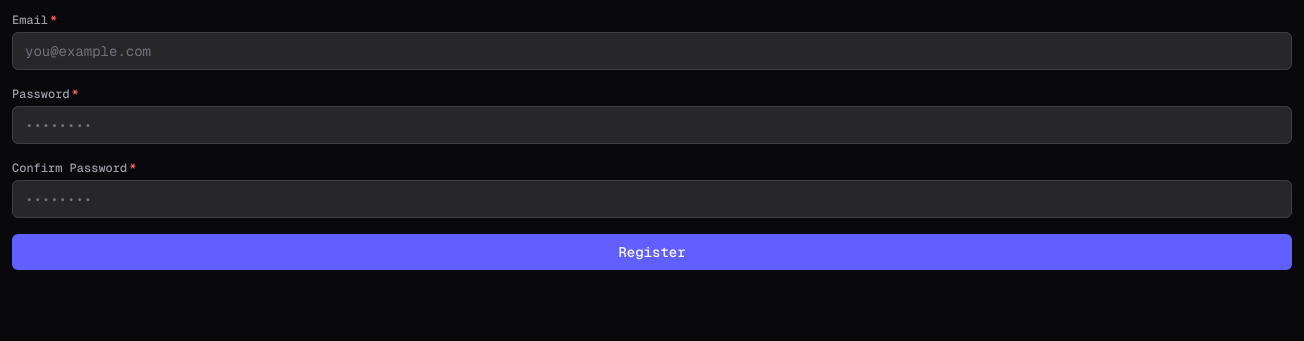
it: RegisterForm › shows error when email is already registered
Step 1. Type "existing@test.com" into the field labelled "Email*" → point(652, 51), box x1=12 y1=32 x2=1292 y2=70
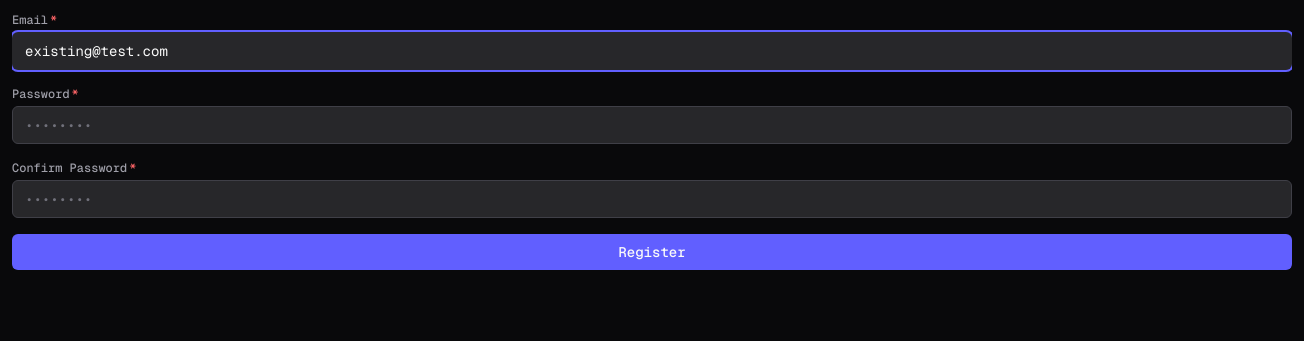
Step 2. Type "Password1!" into the password field labelled "Password*" → point(652, 125), box x1=12 y1=106 x2=1292 y2=144
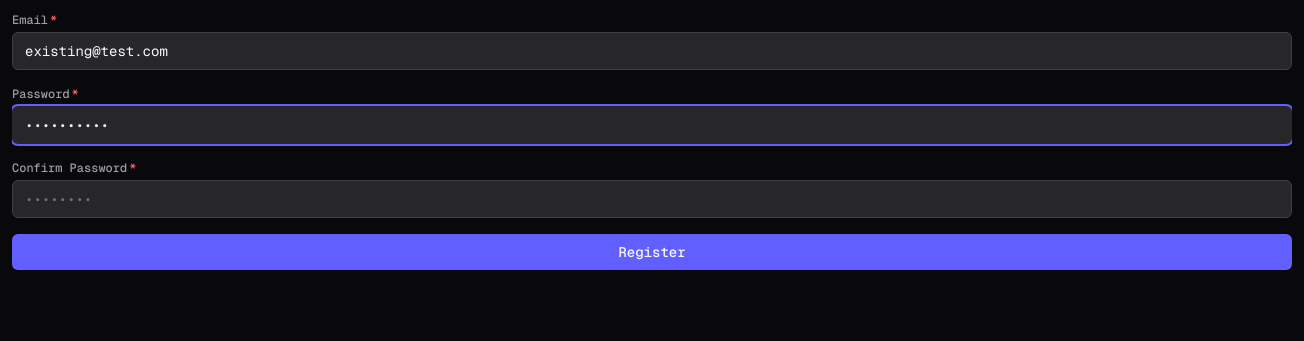
Step 3. Type "Password1!" into the password field labelled "Confirm Password*" → point(652, 199), box x1=12 y1=180 x2=1292 y2=218
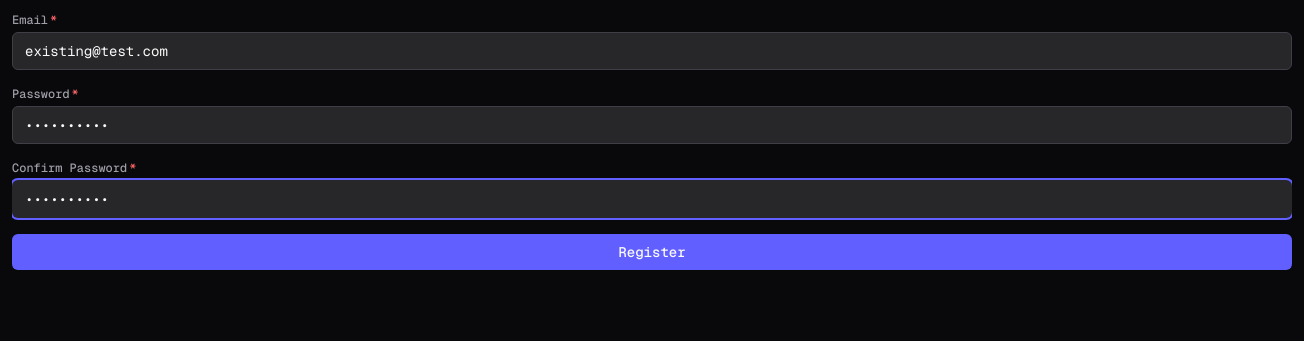
Step 4. Click the button "Register" → point(652, 252), box x1=12 y1=234 x2=1292 y2=270
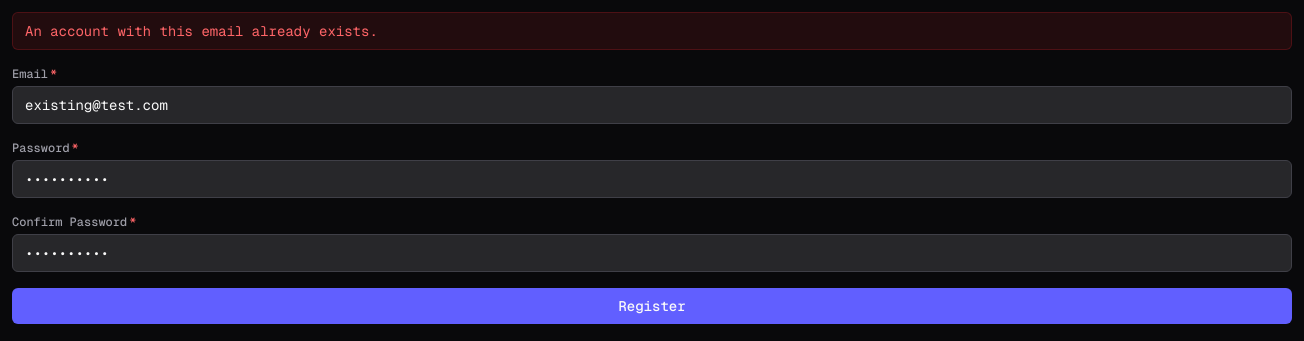
Expected: the text "An account with this email already exists." is shown, x1=12 y1=12 x2=1292 y2=50
